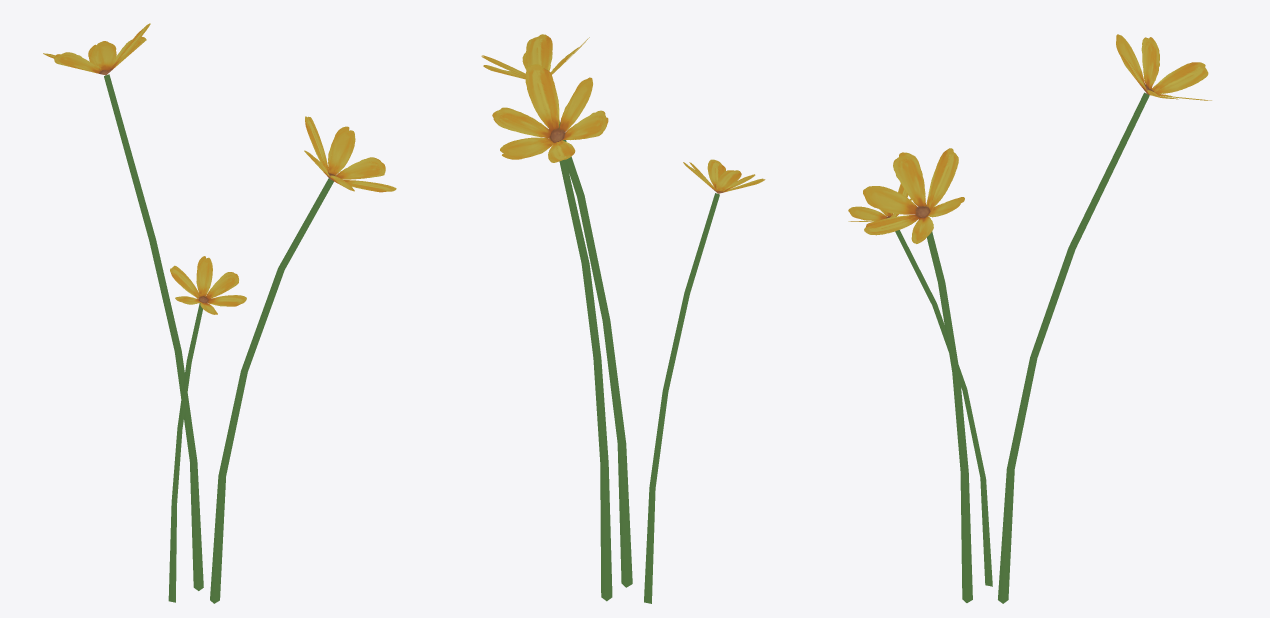
File: MEADOW_SM_Flower_04_01.gltf
The picture shows the model from 3 angles, left to right: view 1: azimuth 30°, elevation 25°; view 2: azimuth 150°, elevation 25°; view 3: azimuth 270°, elevation 25°; orthographic projection. The views are drawn at different scales.
Parts seen in each view (by area): view 1: SM_Flower_04_01_LOD0; view 2: SM_Flower_04_01_LOD0; view 3: SM_Flower_04_01_LOD0.
Part boxes in pixels (x1=…): SM_Flower_04_01_LOD0: x1=43, y1=23, x2=396, y2=603; SM_Flower_04_01_LOD0: x1=481, y1=34, x2=765, y2=603; SM_Flower_04_01_LOD0: x1=848, y1=34, x2=1211, y2=603.
Bounding box in the file's own units: 0.3521 × 0.638 × 0.4412.
Materials: 1 (1 with a texture image).
